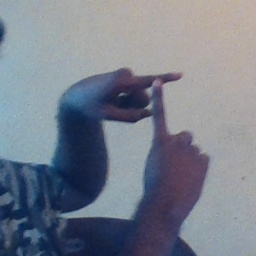T: (128, 63, 192, 154)
